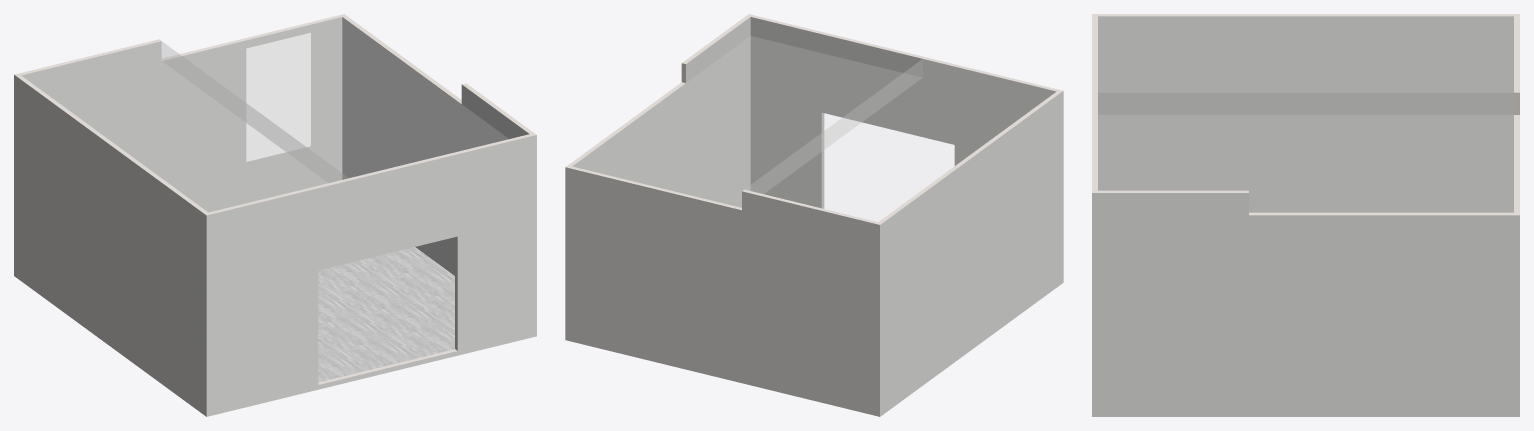
Rendered from testmodel.glb.
The picture shows the model from 3 angles, left to right: view 1: azimuth 30°, elevation 25°; view 2: azimuth 150°, elevation 25°; view 3: azimuth 270°, elevation 25°; orthographic projection. The views are drawn at different scales.
Visible parts, largest first — view 1: ceiling_Other_0 (×3), wall_3 (×3), wall_0 (×2), wall_2 (×2), wall_1 (×2), floor_Other_0, window_0 (×2); view 2: wall_2 (×2), ceiling_Other_0 (×3), wall_0 (×2), wall_3 (×2), wall_1 (×2); view 3: wall_1 (×2), wall_0 (×2), ceiling_Other_0 (×3), wall_2, wall_3.
Part boxes in pixels (x1=…): ceiling_Other_0 (×3): x1=22, y1=17, x2=507, y2=211; wall_3 (×3): x1=206, y1=134, x2=536, y2=416; wall_0 (×2): x1=14, y1=74, x2=208, y2=416; wall_2 (×2): x1=15, y1=14, x2=343, y2=212; wall_1 (×2): x1=342, y1=14, x2=536, y2=275; floor_Other_0: x1=318, y1=247, x2=454, y2=382; window_0 (×2): x1=246, y1=33, x2=310, y2=161; wall_2 (×2): x1=565, y1=166, x2=879, y2=416; ceiling_Other_0 (×3): x1=573, y1=36, x2=1055, y2=221; wall_0 (×2): x1=878, y1=91, x2=1063, y2=416; wall_3 (×2): x1=749, y1=14, x2=1062, y2=208; wall_1 (×2): x1=566, y1=14, x2=750, y2=207; wall_1 (×2): x1=1092, y1=190, x2=1519, y2=416; wall_0 (×2): x1=1092, y1=14, x2=1519, y2=212; ceiling_Other_0 (×3): x1=1098, y1=17, x2=1513, y2=211; wall_2: x1=1514, y1=14, x2=1519, y2=214; wall_3: x1=1092, y1=14, x2=1097, y2=192.
Bounding box in the file's own units: 7.34 × 4.28 × 7.41.
Materials: 13 (1 with a texture image).
